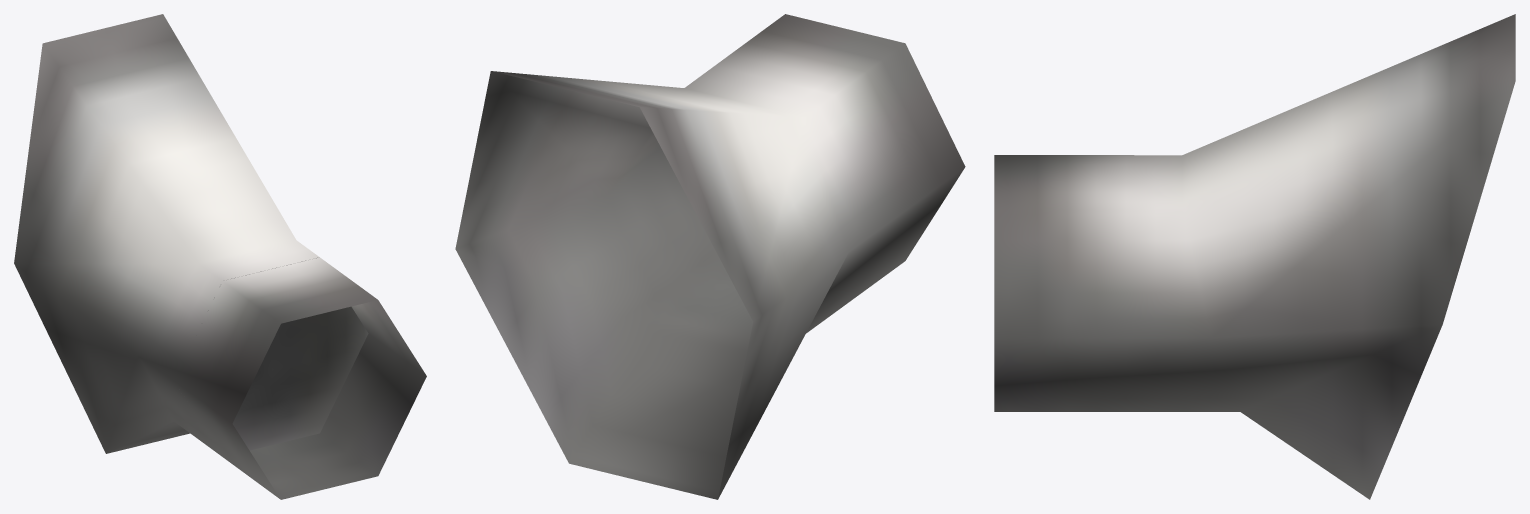
Rendered from acc_33.glb.
3 renders of one model, left to right at view 1: azimuth 30°, elevation 25°; view 2: azimuth 150°, elevation 25°; view 3: azimuth 270°, elevation 25°, orthographic. The views are drawn at different scales.
Parts seen in each view (by area): view 1: vertex, inside; view 2: vertex; view 3: vertex.
Boxes of the visible parts, x1=… form: vertex: x1=14, y1=14, x2=426, y2=499; inside: x1=208, y1=257, x2=368, y2=450; vertex: x1=455, y1=14, x2=965, y2=499; vertex: x1=994, y1=14, x2=1515, y2=499.
Size of the model in its own units: 0.2203 by 0.3181 by 0.359.
2 materials, 2 textured.
